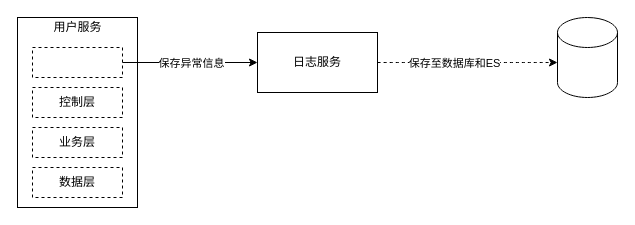
The diagram is 635 pixels wide and 225 high, and some of its shapes have lost their labels. Each missing label, with the centre of its shape:
数据库: point 587,57
日志拦截器: point 77,62
